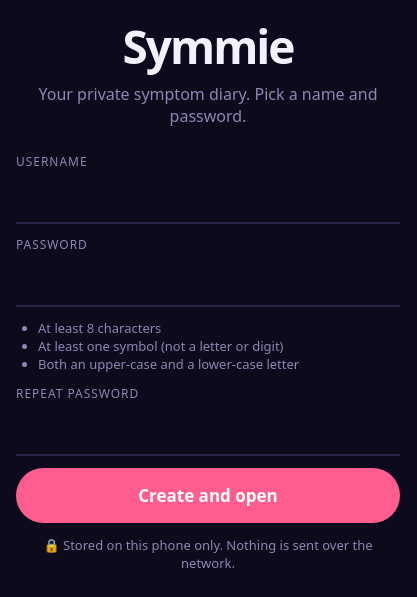
Test case: LockGate when saving fails › shows an error, stays on the setup form and opens nothing
Type "anna" into the field labelled "Username" at (208, 199), box 16,174 -> 400,224
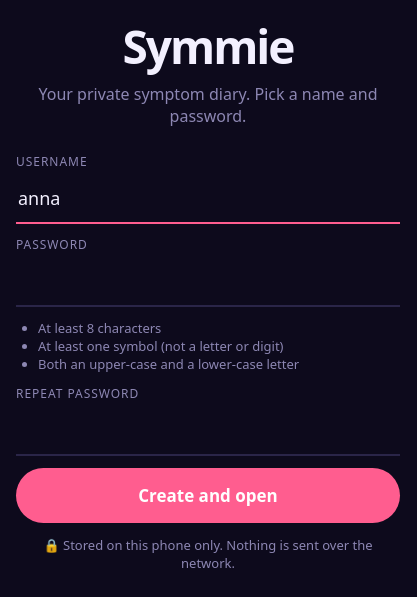
Type "Pw-12345" into the password field labelled "Password" at (208, 282), box 16,257 -> 400,307
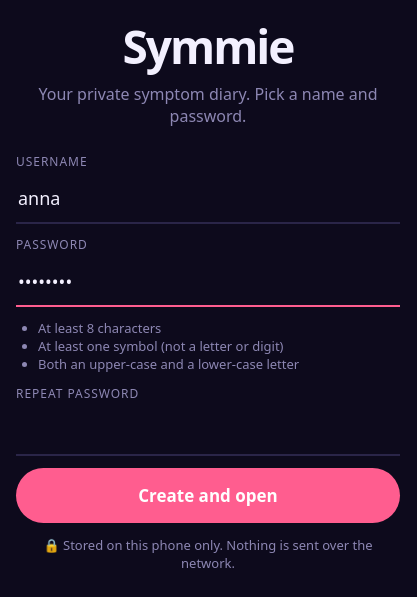
Type "Pw-12345" into the password field labelled "Repeat password" at (208, 431), box 16,406 -> 400,456
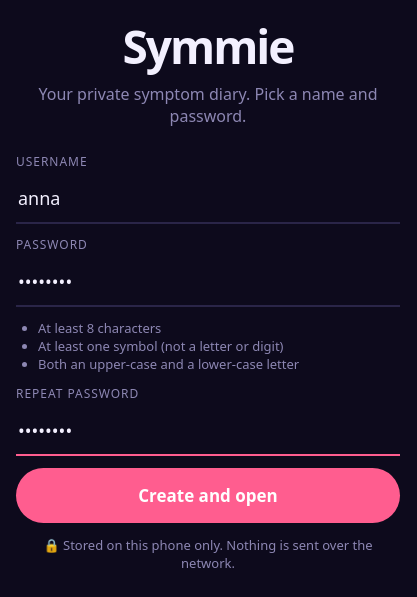
Click the button "Create and open" at (208, 496), box 16,468 -> 400,523
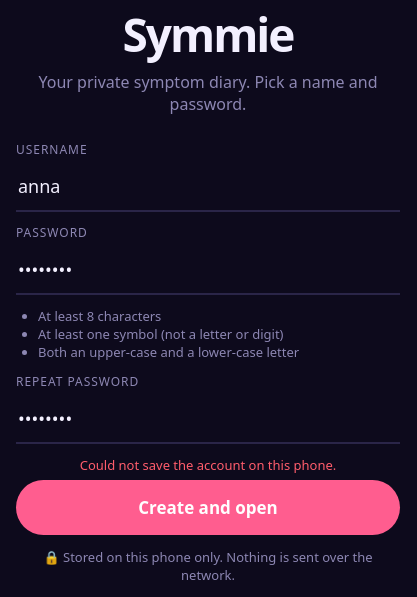
expect the button "Create and open" is enabled: met, box 16,480 -> 400,535
expect the message reads "Could not save the account on this phone.": met, box 80,456 -> 336,474
